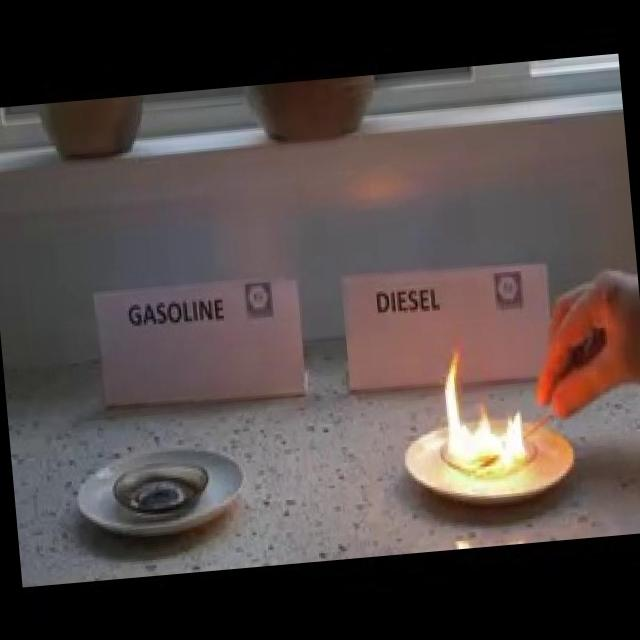Fire: (435, 332, 534, 478)
